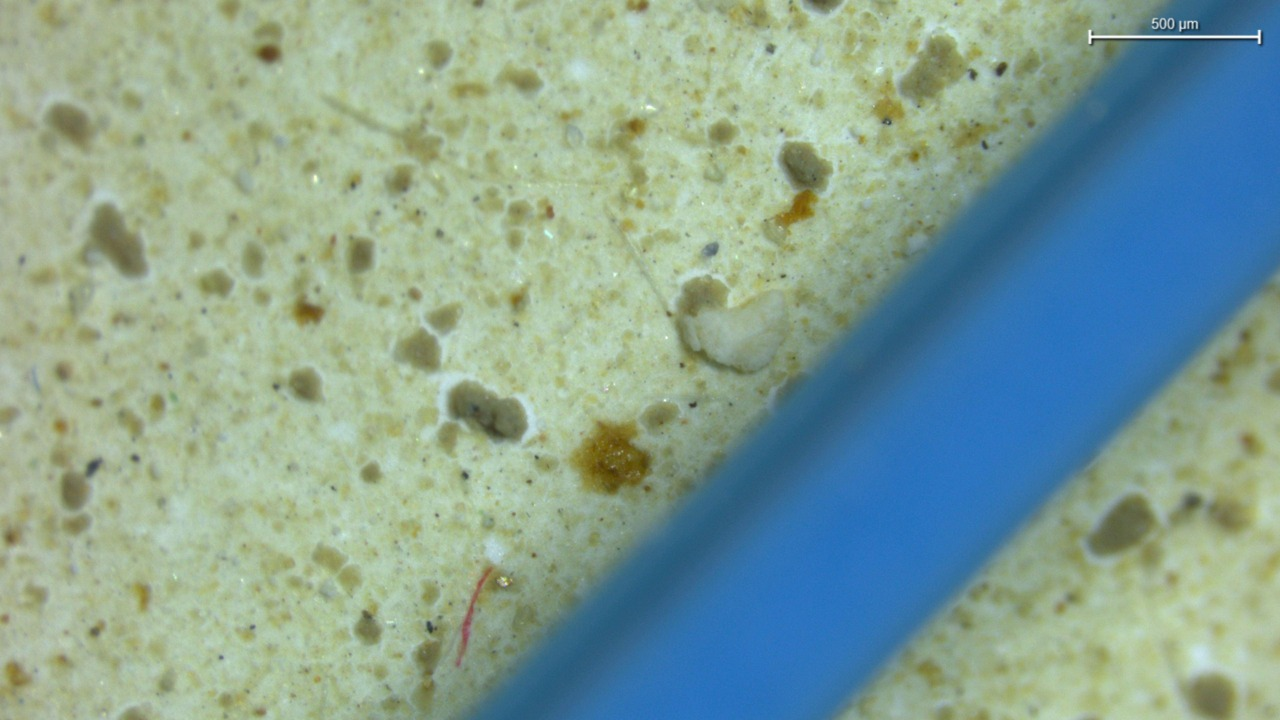microplastic_fragment: (675, 275, 789, 372)
